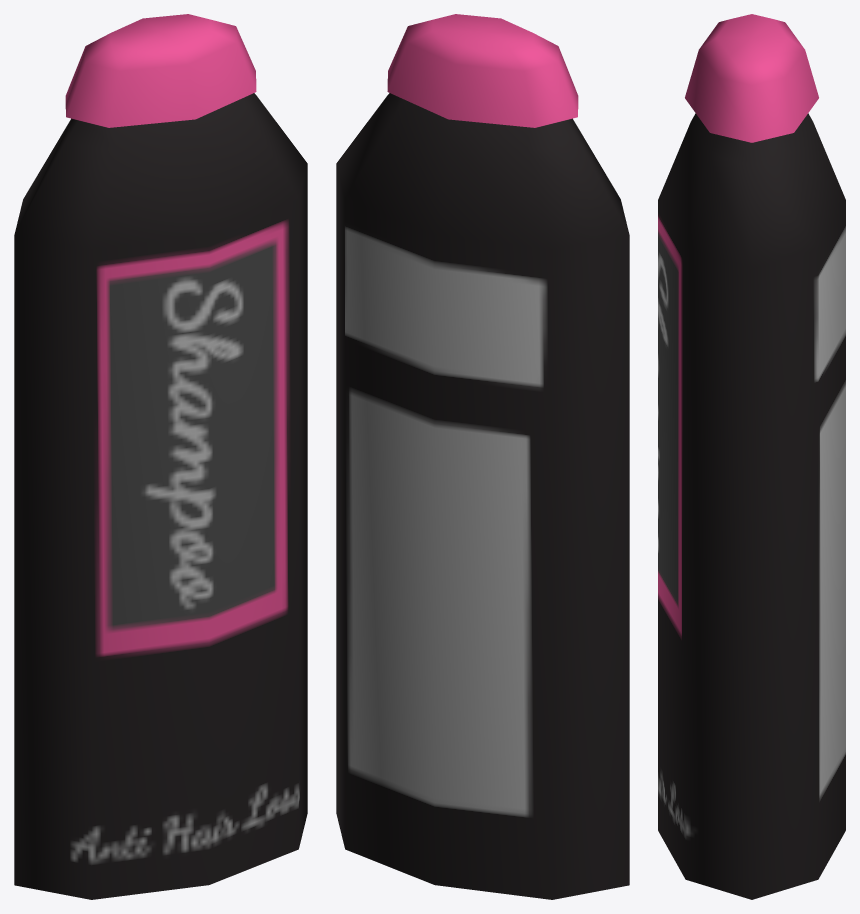
File: Cleaners_06.fbx
3 renders of one model, left to right at view 1: azimuth 30°, elevation 25°; view 2: azimuth 150°, elevation 25°; view 3: azimuth 270°, elevation 25°, orthographic. The views are drawn at different scales.
Visible parts, largest first — view 1: Cleaners_06; view 2: Cleaners_06; view 3: Cleaners_06.
Boxes of the visible parts, x1=… form: Cleaners_06: x1=14, y1=14, x2=307, y2=899; Cleaners_06: x1=336, y1=14, x2=629, y2=899; Cleaners_06: x1=658, y1=14, x2=845, y2=899.
Size of the model in its own units: 11.69 by 31.17 by 6.69.
